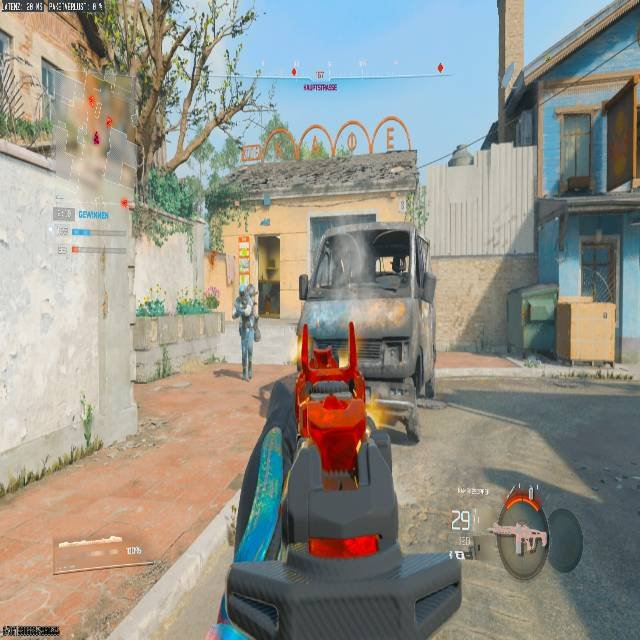head: (238, 285, 246, 297)
player: (232, 284, 258, 345)
